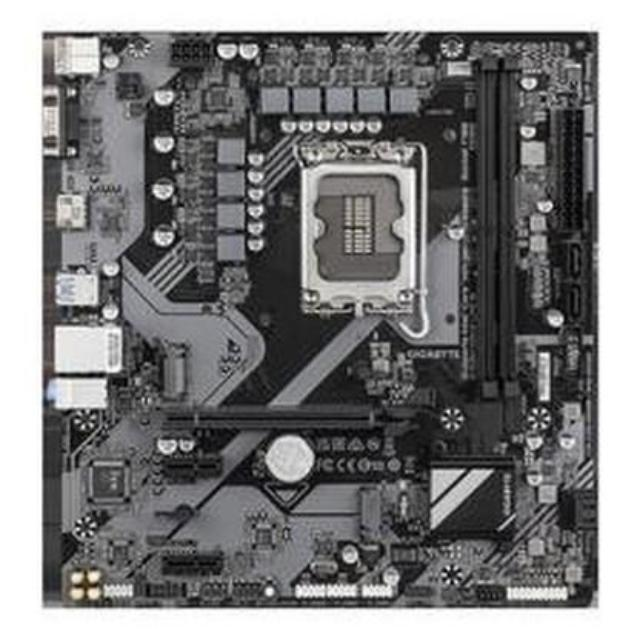Mainboard: (23, 14, 614, 626)
